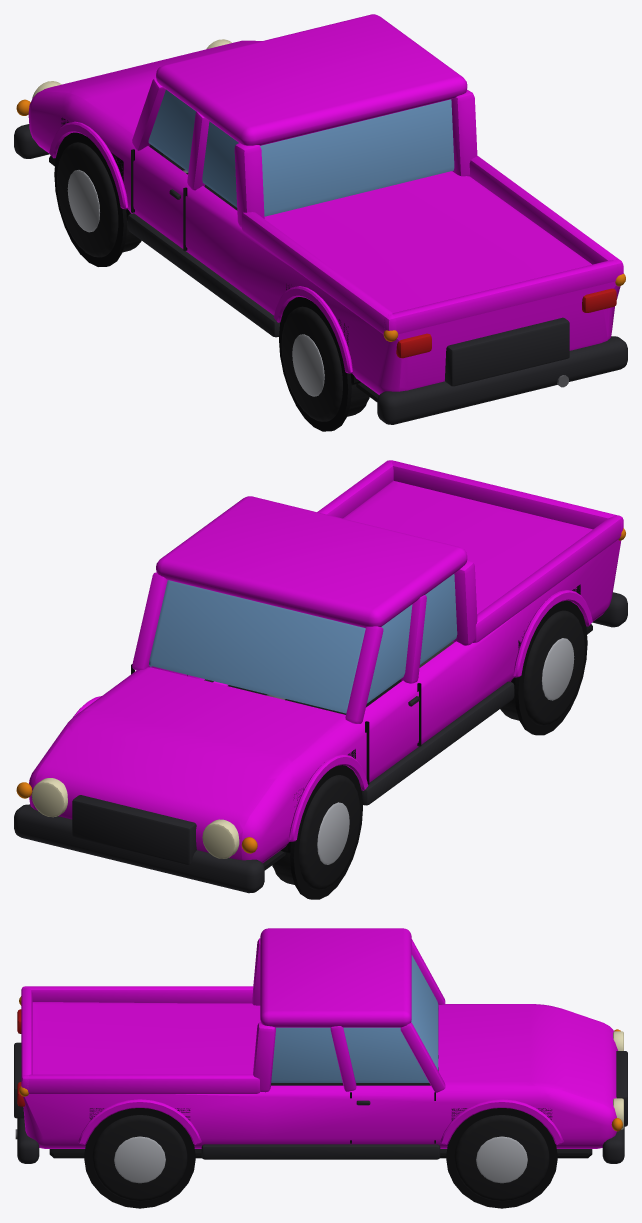
The model's file is BrambleLonghorn_Player.fbx.
3 views of the same model, one above another, from view 1: azimuth 30°, elevation 25°; view 2: azimuth 150°, elevation 25°; view 3: azimuth 270°, elevation 25° (orthographic). The views are drawn at different scales.
Parts seen in each view (by area): view 1: BrambleLonghorn_Player; view 2: BrambleLonghorn_Player; view 3: BrambleLonghorn_Player.
Part boxes in pixels (bbox=[...]): BrambleLonghorn_Player: bbox=[14, 14, 627, 431]; BrambleLonghorn_Player: bbox=[14, 460, 627, 899]; BrambleLonghorn_Player: bbox=[14, 928, 627, 1208].
Size of the model in its own units: 2.07 by 1.87 by 5.43.
